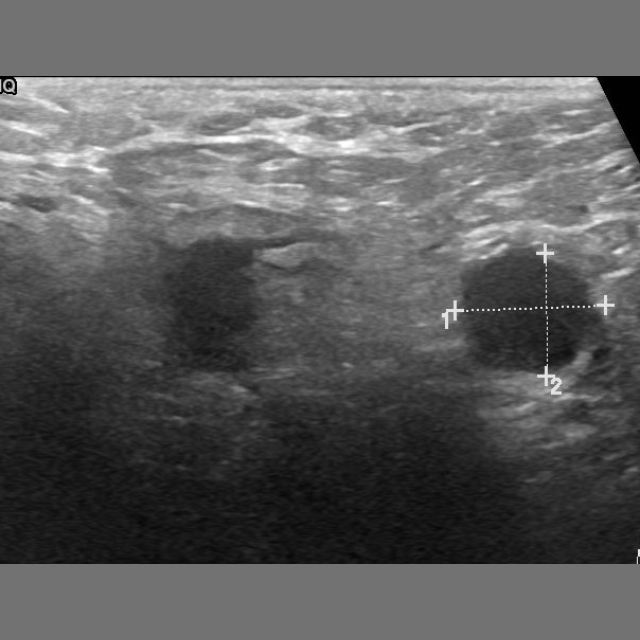cancer: (436, 255, 603, 392)
